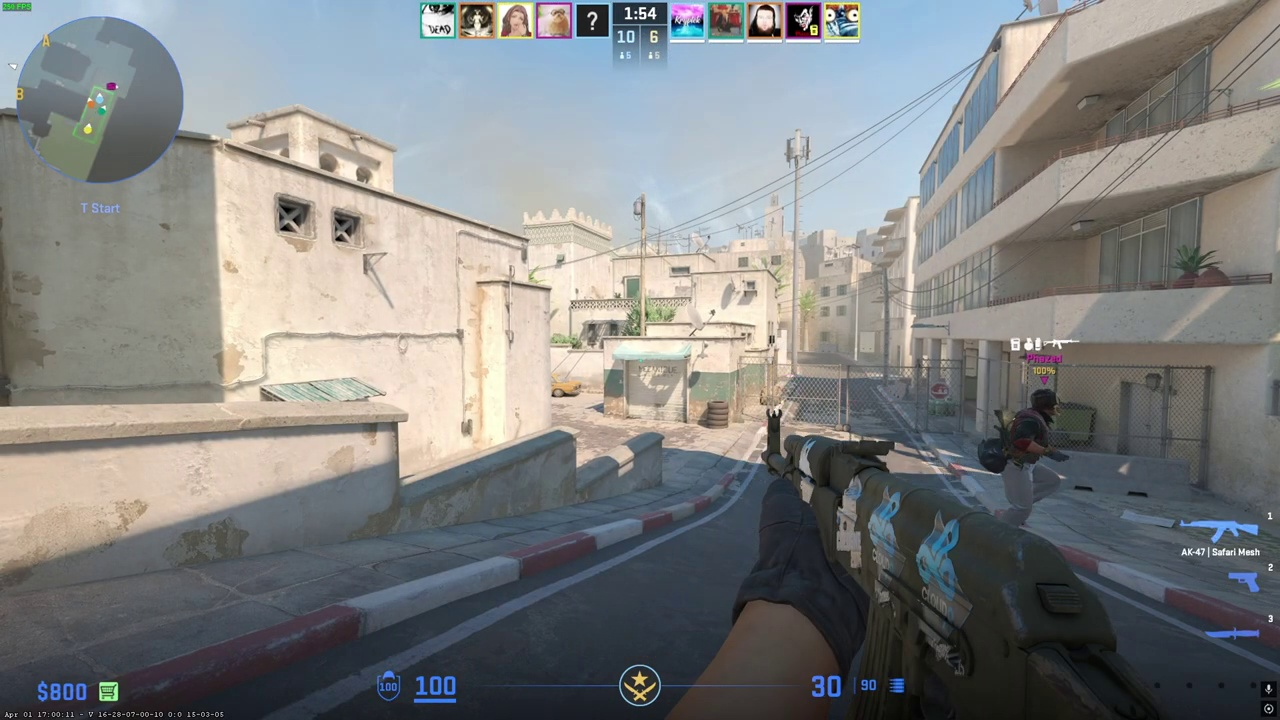Terrorist: (996, 388, 1066, 529)
